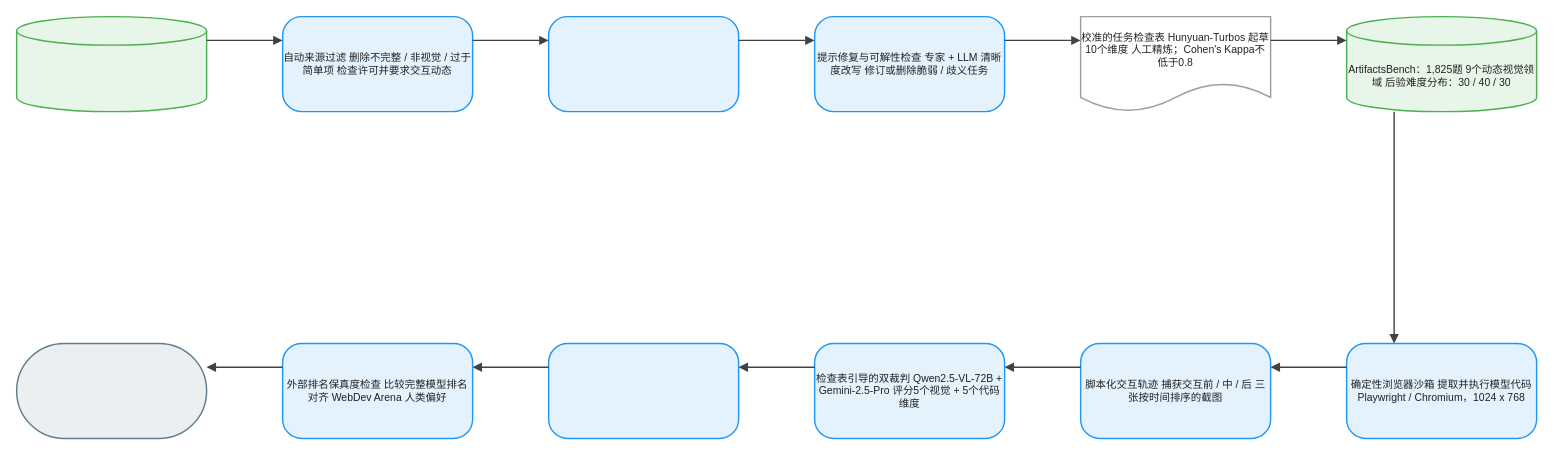
Image size: 1554x456. Some labels were removed from this diagram. Each missing label, with the centre of its shape:
"两阶段去重 MinHash + DOM/CSS/JS 语义相似度 截图感知哈希" belongs at (643,63).
"双盲人类验证 280个实例 / 6个模型 前端工程师；Pair ACC最高90.95%" belongs at (643,390).
"可复现的作品得分 视觉保真度 + 交互正确性 代码逻辑 / 鲁棒性 / 工程质量" belongs at (111,390).
"多源候选 专家作品 + SVG/网页数据集 案例研究 + 截图转查询生成" belongs at (111,63).
